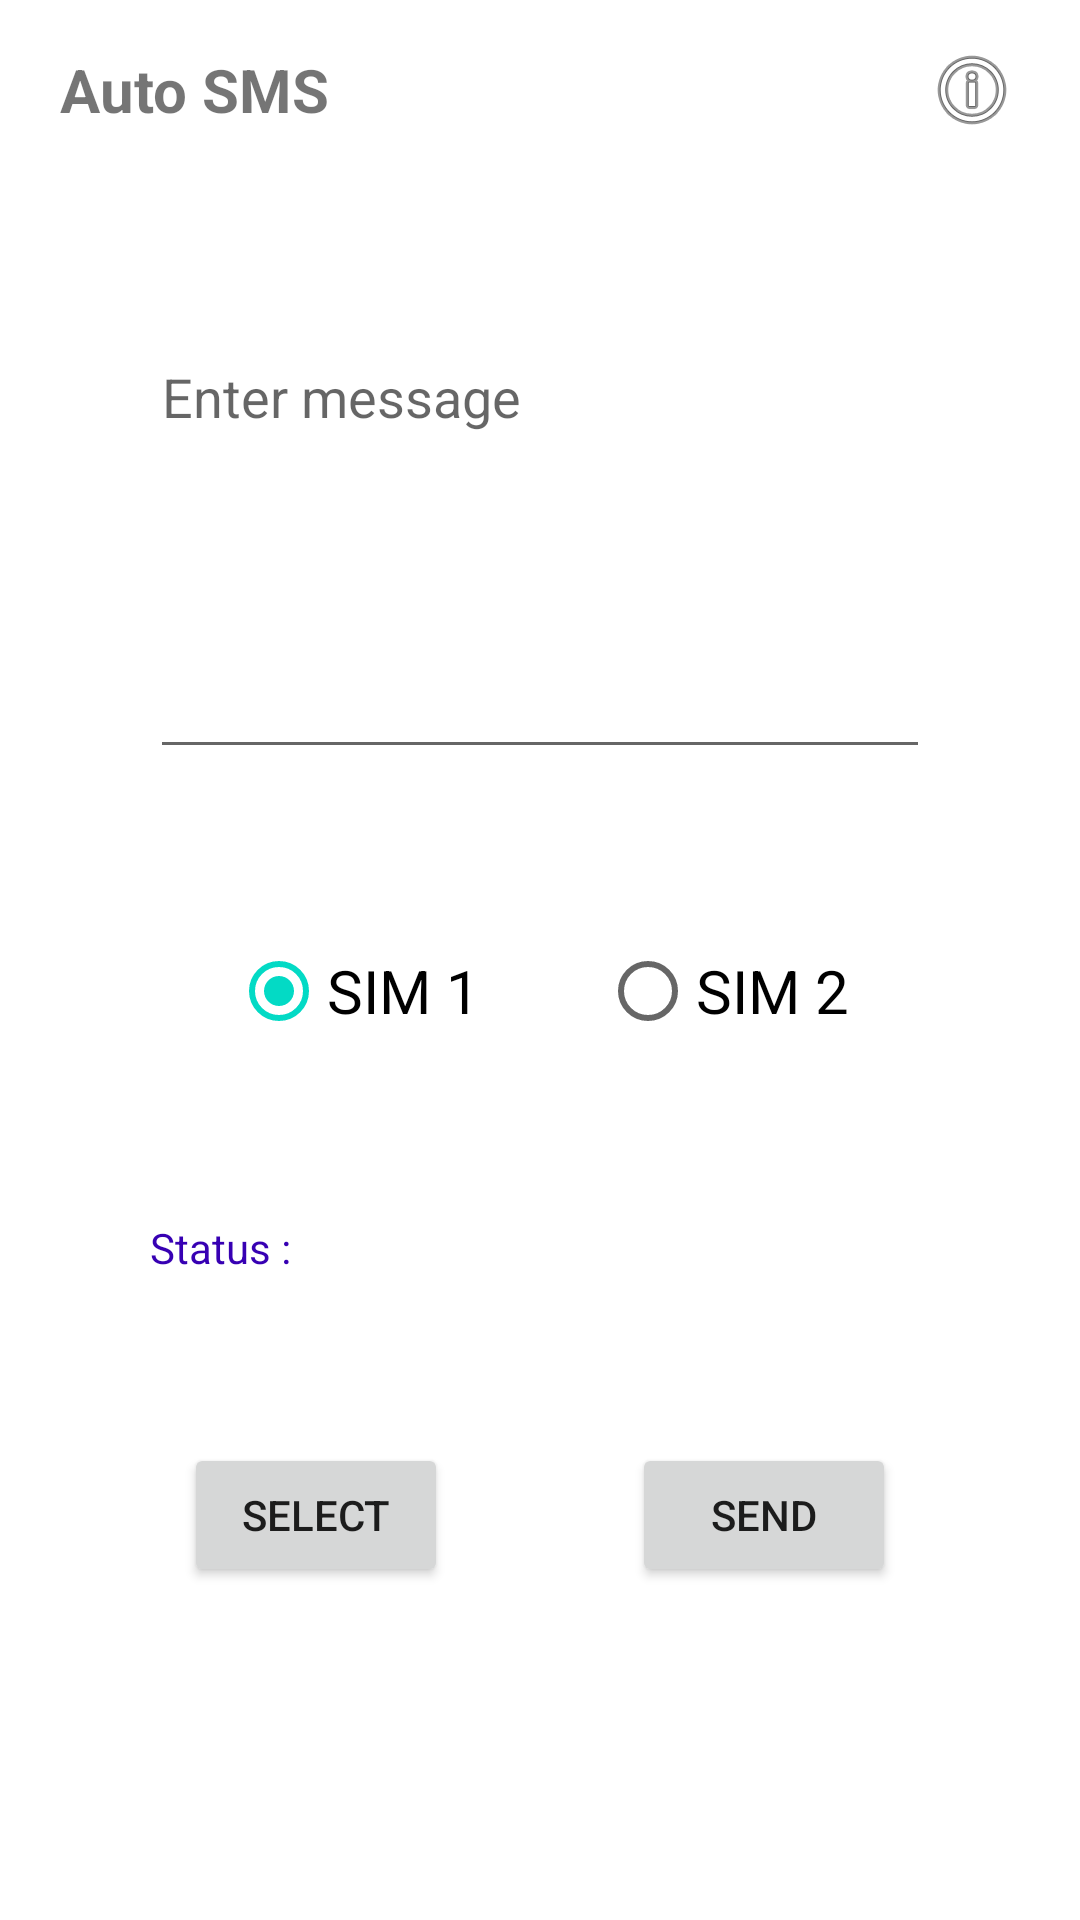

Icons on this 1080*1920 Android screen, each with its box as region(x1, y1, x2, y2):
Info Button: region(937, 55, 1007, 125)
